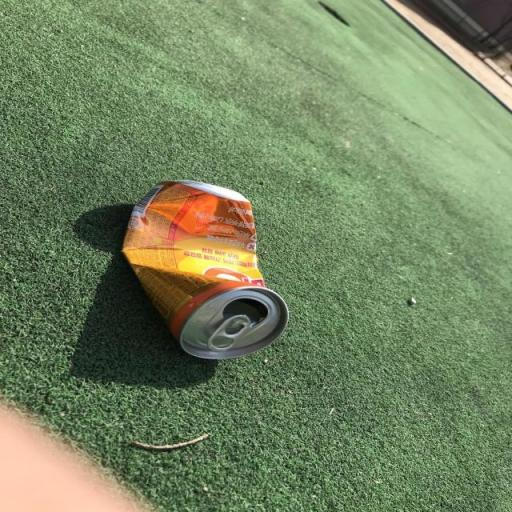metal: (95, 160, 303, 378)
